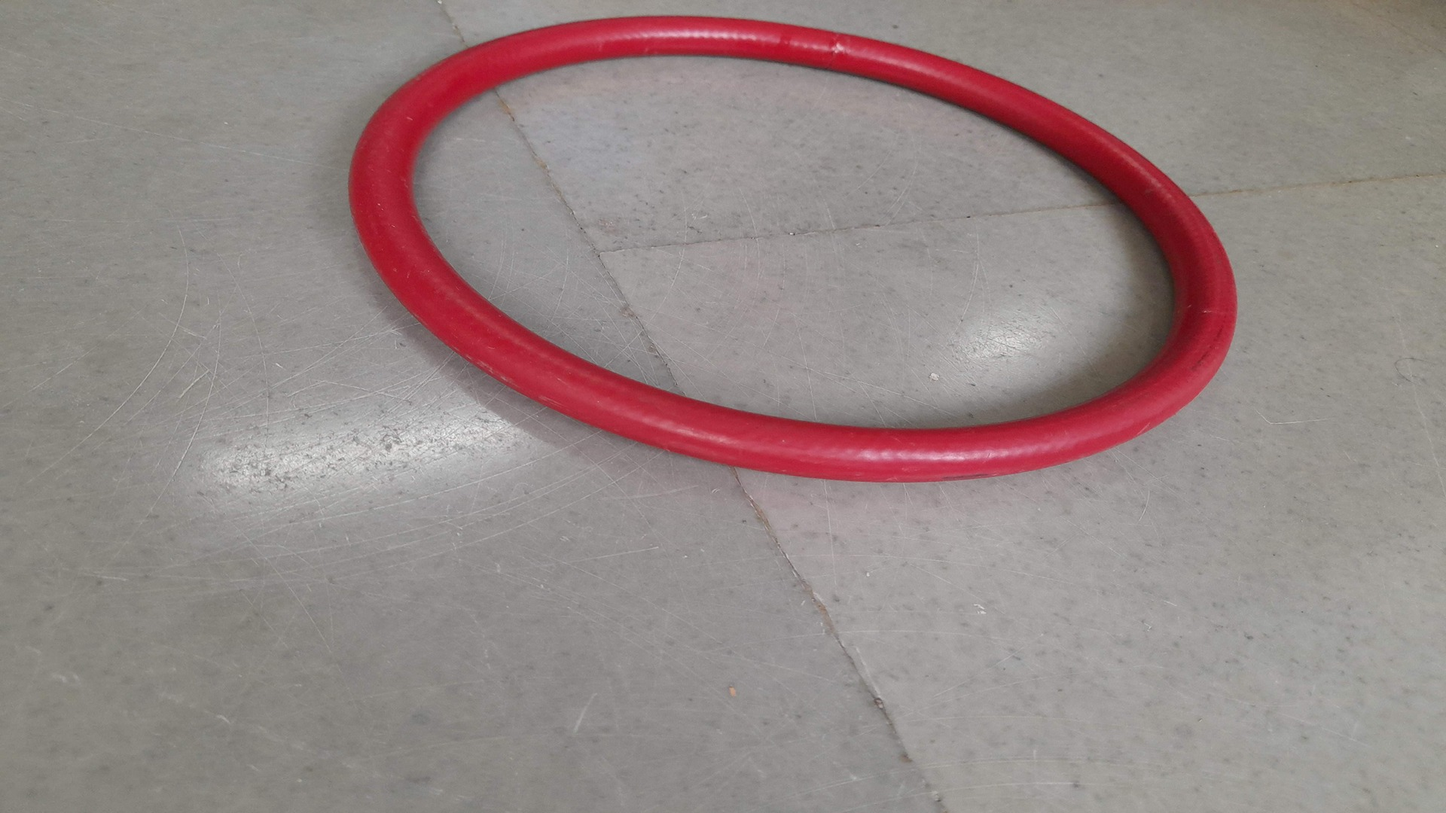Red ring: (349, 19, 1239, 482)
